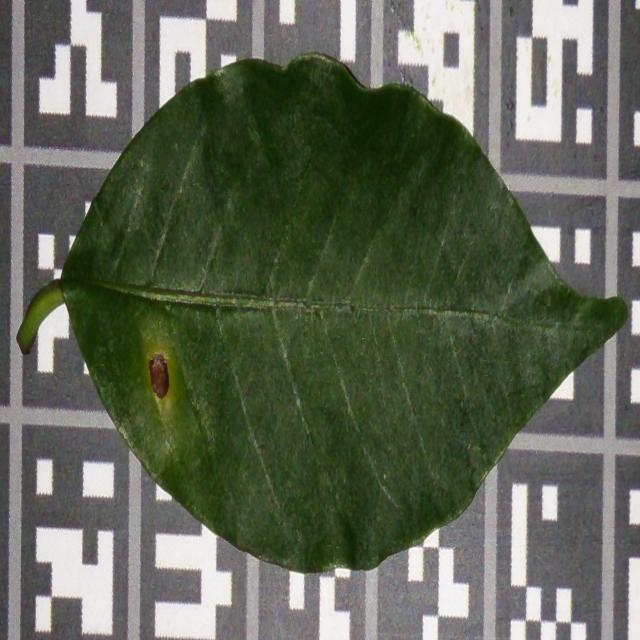Enfermedad-Mancha-de-hierro: (54, 55, 632, 577)
